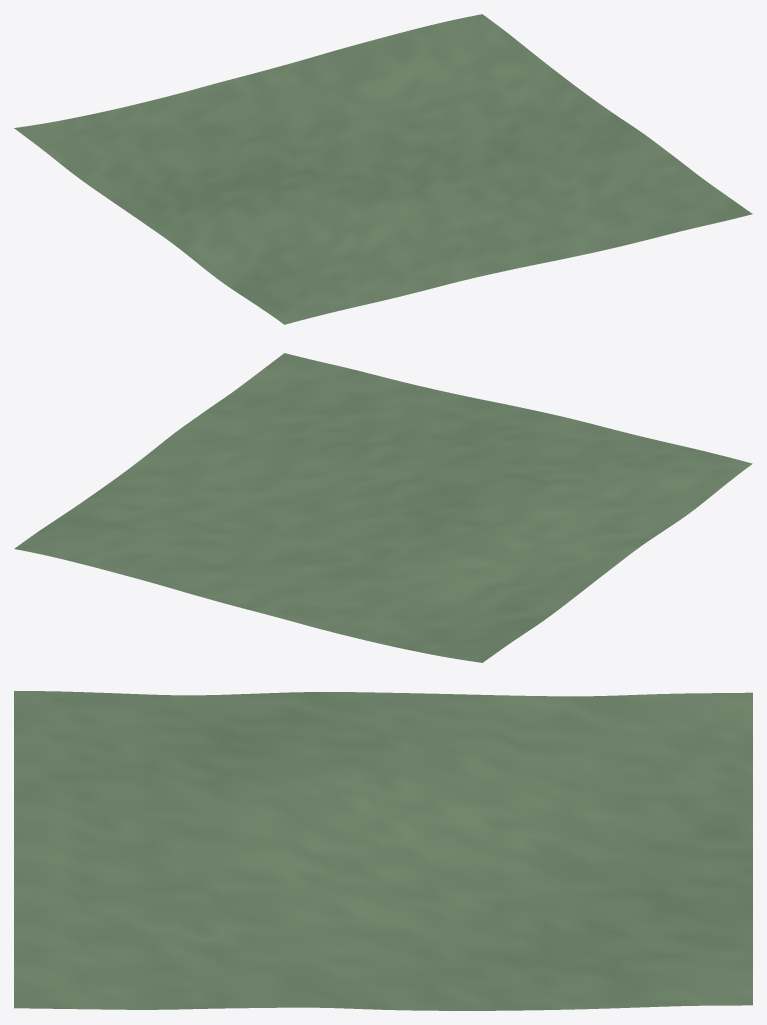
3 views of the same model, one above another, from view 1: azimuth 30°, elevation 25°; view 2: azimuth 150°, elevation 25°; view 3: azimuth 270°, elevation 25° (orthographic). The views are drawn at different scales.
Visible parts, largest first — view 1: Terrain-col; view 2: Terrain-col; view 3: Terrain-col.
Boxes of the visible parts, box(x1,y1,x2,y2) form: Terrain-col: box(14, 14, 752, 324); Terrain-col: box(14, 353, 752, 662); Terrain-col: box(14, 691, 752, 1010).
Bounding box in the file's own units: 256 × 6.92 × 256.
